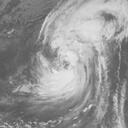cyclone: (45, 36, 98, 84)
